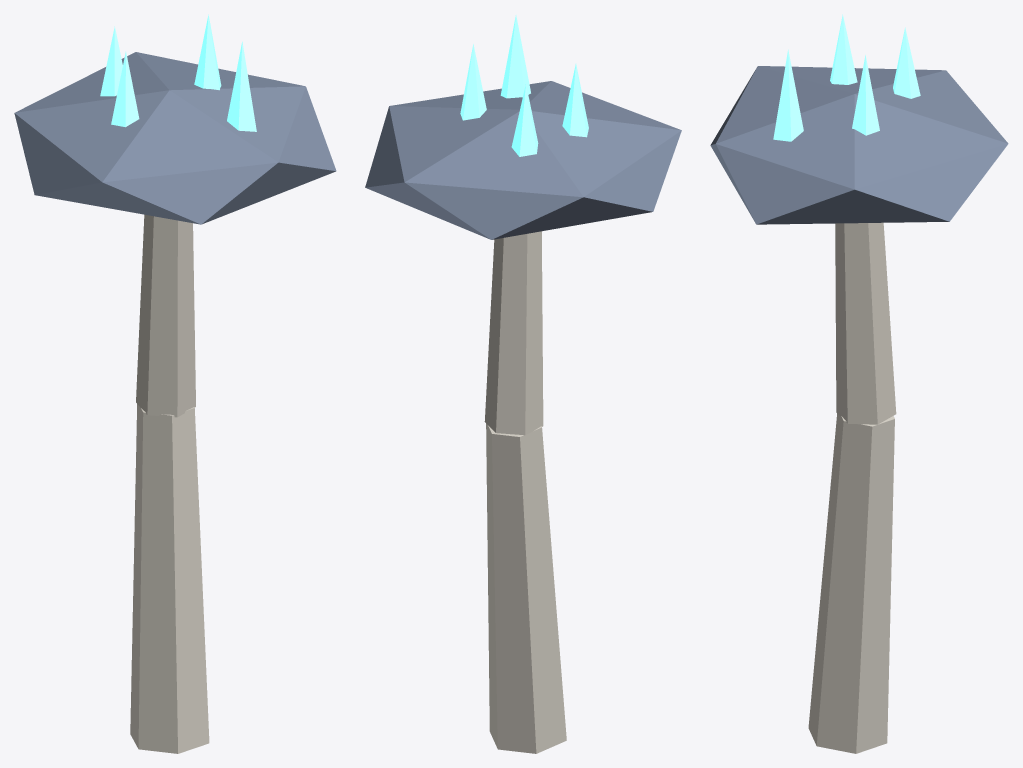
Rendered from arv_fungo_cristal_5_sem_textura.glb.
3 views of the same model, side by side, from view 1: azimuth 30°, elevation 25°; view 2: azimuth 150°, elevation 25°; view 3: azimuth 270°, elevation 25° (orthographic). The views are drawn at different scales.
Visible parts, largest first — view 1: arv_fungo_cristal_5; view 2: arv_fungo_cristal_5; view 3: arv_fungo_cristal_5.
Part boxes in pixels (left/top/right/bottom): arv_fungo_cristal_5: left=14, top=14, right=336, bottom=753; arv_fungo_cristal_5: left=365, top=15, right=681, bottom=753; arv_fungo_cristal_5: left=710, top=14, right=1008, bottom=753.
Bounding box in the file's own units: 0.8251 × 2.07 × 0.7877.
